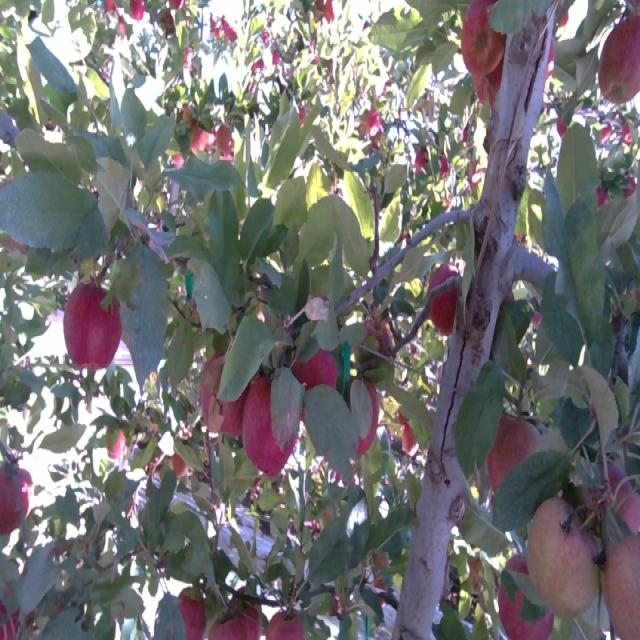100-_ripeness: (528, 497, 596, 618), (67, 273, 125, 370), (242, 375, 296, 475), (605, 486, 640, 640), (495, 550, 552, 640), (486, 412, 538, 500), (207, 342, 250, 442), (598, 23, 640, 104), (464, 0, 511, 70), (292, 332, 338, 395), (205, 594, 257, 640), (355, 372, 382, 458), (430, 274, 467, 334), (0, 465, 26, 540), (270, 600, 306, 640)
